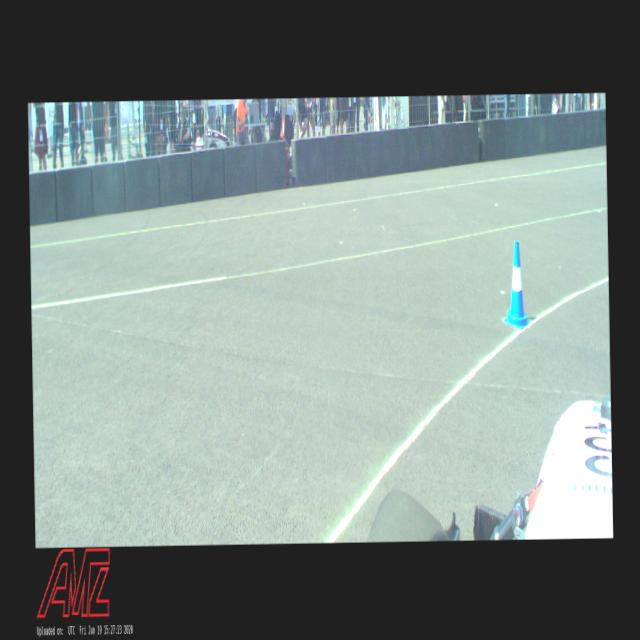blue_cone: (502, 240, 531, 329)
